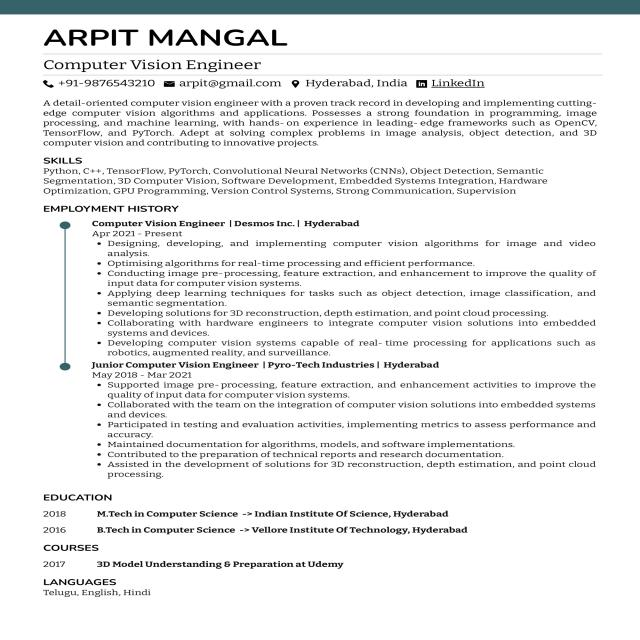contact: (36, 76, 497, 91)
education: (35, 487, 481, 574)
experience: (39, 199, 621, 482)
header: (35, 19, 292, 72)
languages: (39, 575, 176, 617)
skills: (37, 155, 565, 201)
summary: (36, 96, 621, 153)
